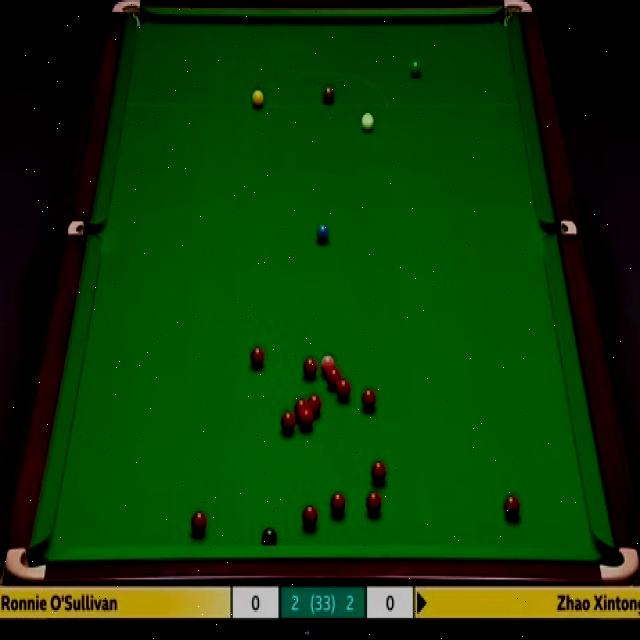black-ball: (264, 525, 280, 549)
blue-ball: (317, 224, 330, 244)
brown-ball: (321, 86, 334, 105)
green-ball: (408, 59, 423, 80)
pink-ball: (320, 352, 335, 375)
red-ball: (501, 494, 519, 522), (365, 489, 383, 517), (370, 459, 388, 486), (330, 490, 347, 516), (301, 505, 319, 529), (190, 509, 207, 534), (248, 344, 264, 370), (280, 410, 296, 434), (302, 355, 318, 379), (336, 380, 351, 404), (299, 406, 314, 429), (308, 393, 323, 416), (362, 388, 376, 411), (326, 368, 342, 387), (295, 398, 308, 416)
white-ball: (359, 110, 376, 134)
yellow-ball: (251, 86, 264, 109)
